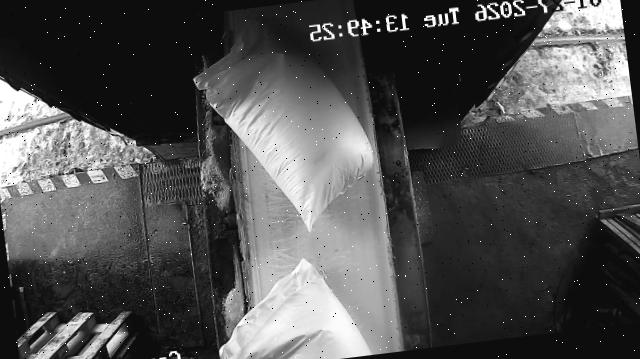bag: (192, 12, 380, 243), (209, 248, 380, 359)
